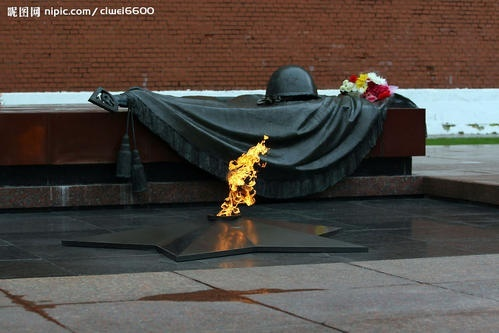fire: (218, 134, 270, 218)
